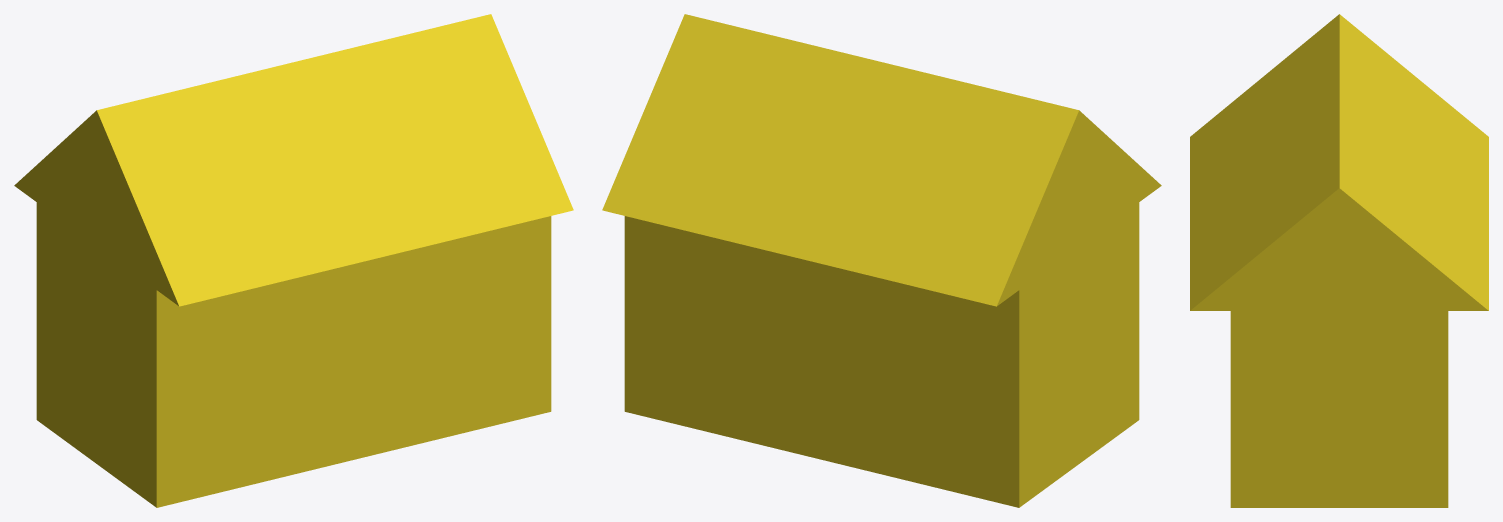
Rendered from SiedlungYellow.glb.
3 renders of one model, left to right at view 1: azimuth 30°, elevation 25°; view 2: azimuth 150°, elevation 25°; view 3: azimuth 270°, elevation 25°, orthographic. The views are drawn at different scales.
Parts seen in each view (by area): view 1: Cube; view 2: Cube; view 3: Cube.
Part boxes in pixels (<box>): Cube: <box>14,14,573,507</box>; Cube: <box>602,14,1161,507</box>; Cube: <box>1190,14,1488,507</box>.
Size of the model in its own units: 0.6906 by 0.5917 by 0.5011.
